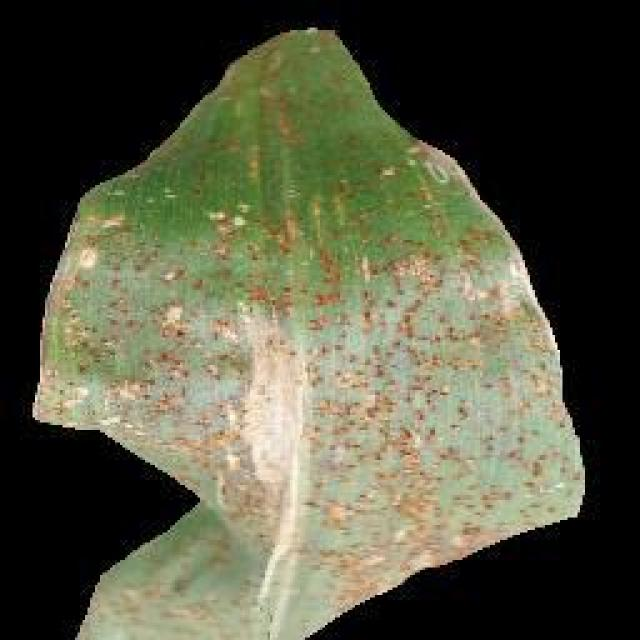Corn Common Rust: (126, 192, 556, 586)
